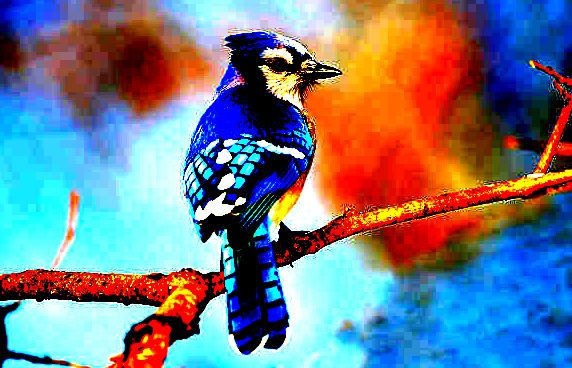Bird: (174, 27, 344, 358)
